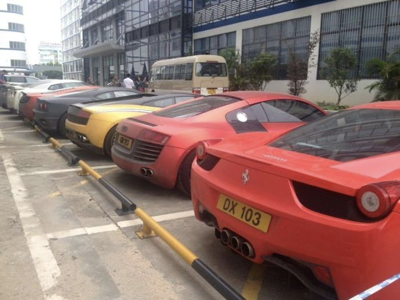licence: (219, 194, 271, 230)
